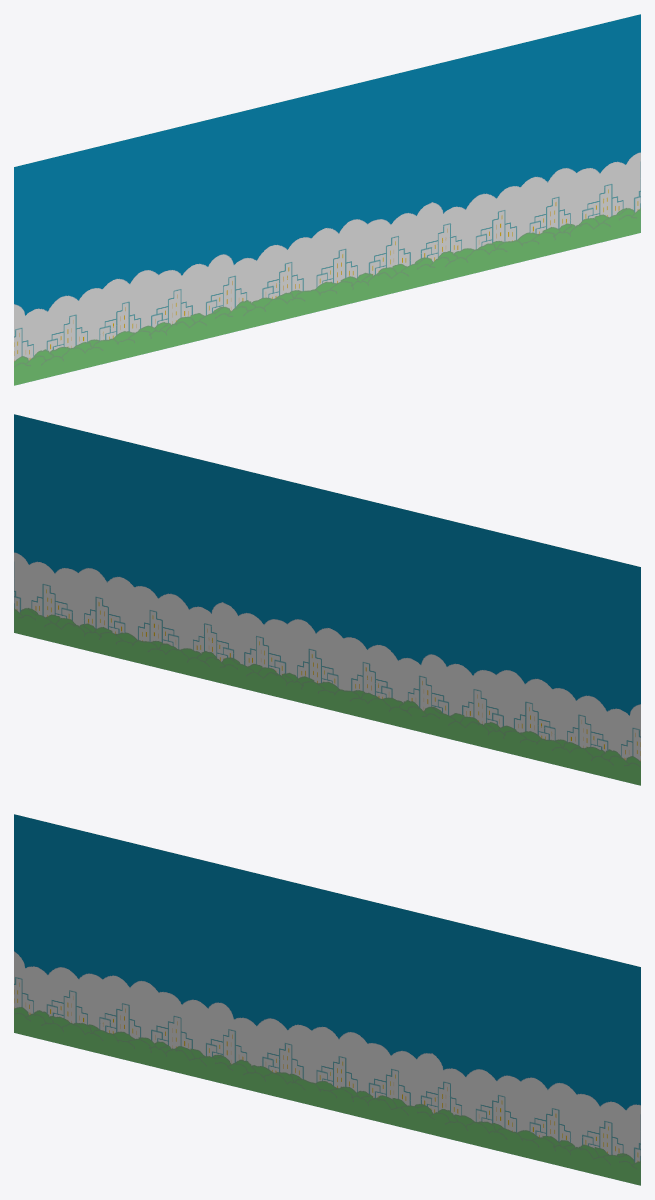
Rendered from SkySprite.FBX.
3 views of the same model, one above another, from view 1: azimuth 30°, elevation 25°; view 2: azimuth 150°, elevation 25°; view 3: azimuth 330°, elevation 25° (orthographic).
Parts seen in each view (by area): view 1: Plane001; view 2: Plane001; view 3: Plane001.
Boxes of the visible parts, x1=… form: Plane001: x1=14, y1=14, x2=640, y2=385; Plane001: x1=14, y1=414, x2=640, y2=785; Plane001: x1=14, y1=814, x2=640, y2=1185.
Bounding box in the file's own units: 4572 × 1524 × 6.66e-05.
